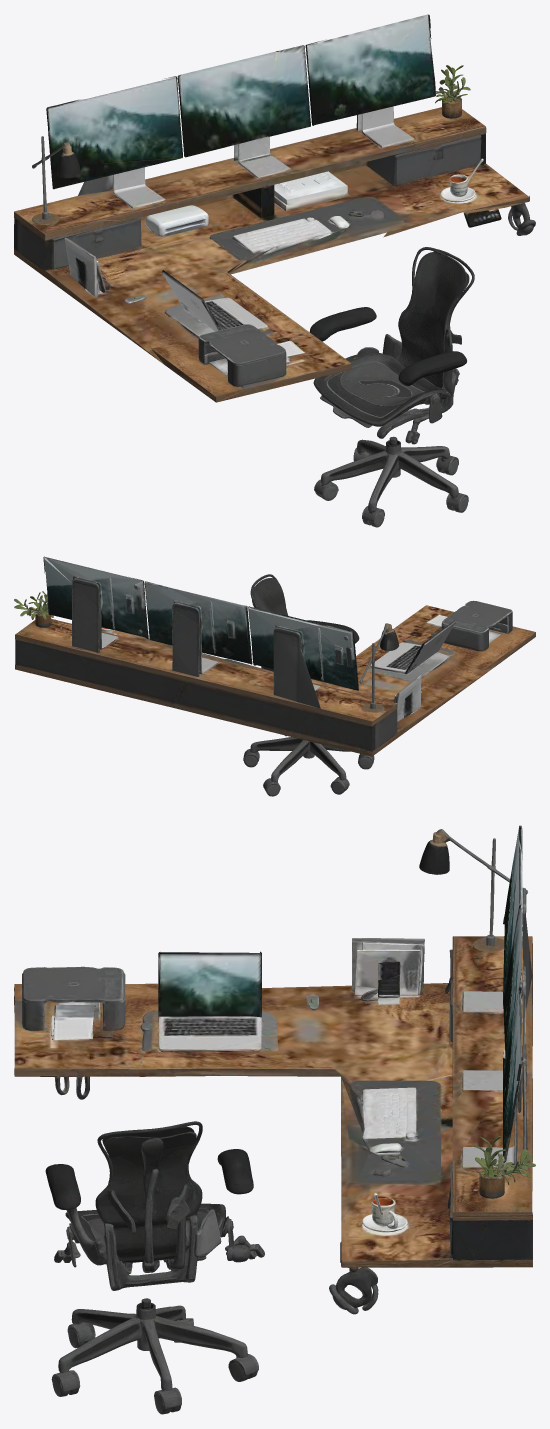
File: wayfair-com-furniture-pdp-agilestic-l-shaped-electric-standi-bad383.glb
The picture shows the model from 3 angles, top to bottom: view 1: azimuth 30°, elevation 25°; view 2: azimuth 150°, elevation 25°; view 3: azimuth 270°, elevation 25°; orthographic projection. The views are drawn at different scales.
Parts seen in each view (by area): view 1: Mesh_0; view 2: Mesh_0; view 3: Mesh_0.
Boxes of the visible parts, x1,y1,x2,y2 form: Mesh_0: (14, 14, 535, 527); Mesh_0: (14, 556, 535, 796); Mesh_0: (14, 825, 535, 1414).
Bounding box in the file's own units: 1.9 × 1.35 × 1.5.
Materials: 1 (1 with a texture image).
